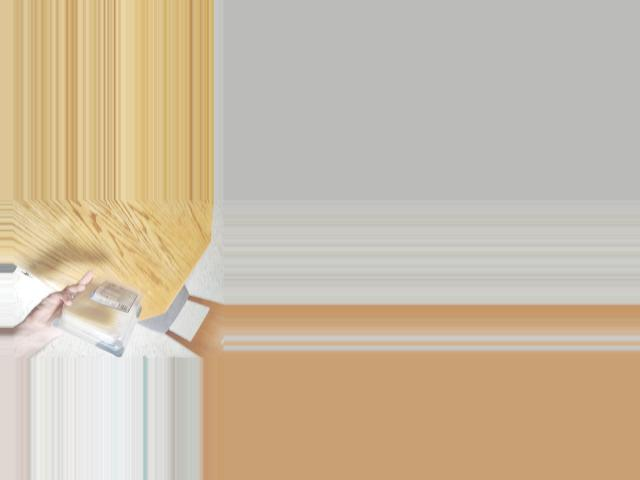cheese: (59, 285, 142, 344)
